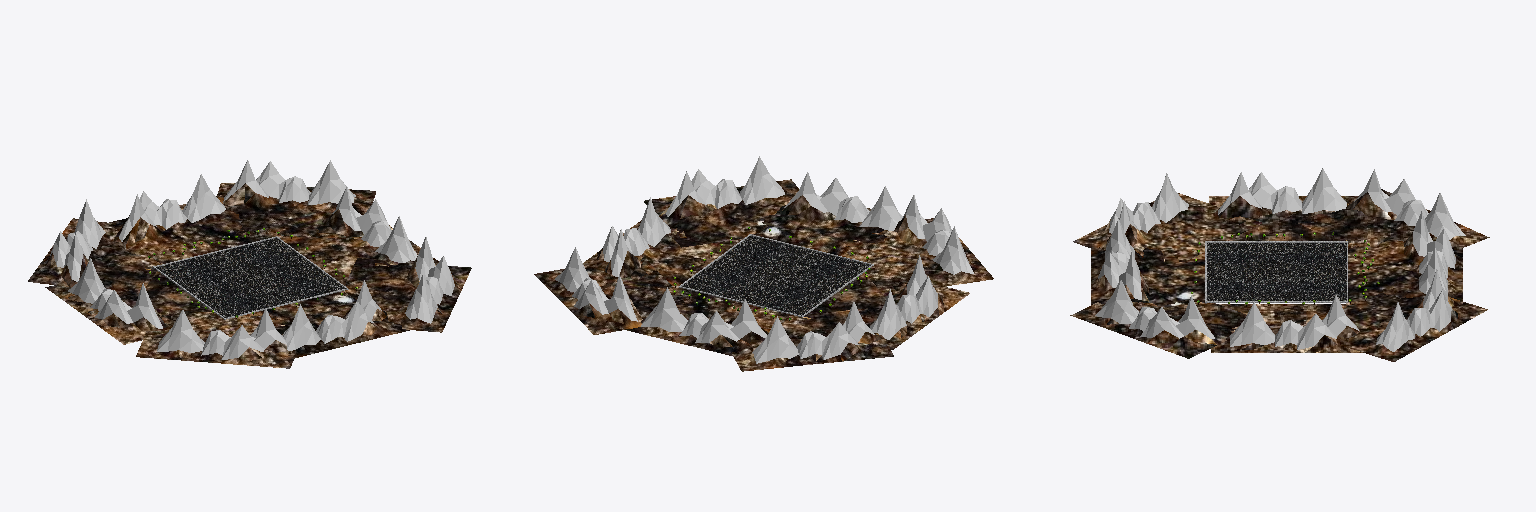
3 renders of one model, left to right at view 1: azimuth 30°, elevation 25°; view 2: azimuth 150°, elevation 25°; view 3: azimuth 270°, elevation 25°, orthographic.
Visible parts, largest first — view 1: pCube2; view 2: pCube2; view 3: pCube2.
Part boxes in pixels (bbox=[...]): pCube2: bbox=[28, 160, 471, 368]; pCube2: bbox=[534, 156, 993, 371]; pCube2: bbox=[1070, 168, 1489, 361].
Size of the model in its own units: 870 by 104 by 890.
6 materials, 4 textured.